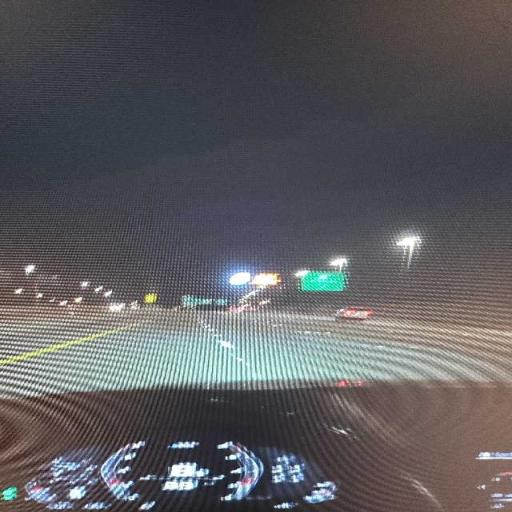car: (336, 307, 374, 319)
lane: (0, 314, 511, 397), (0, 328, 122, 366)
